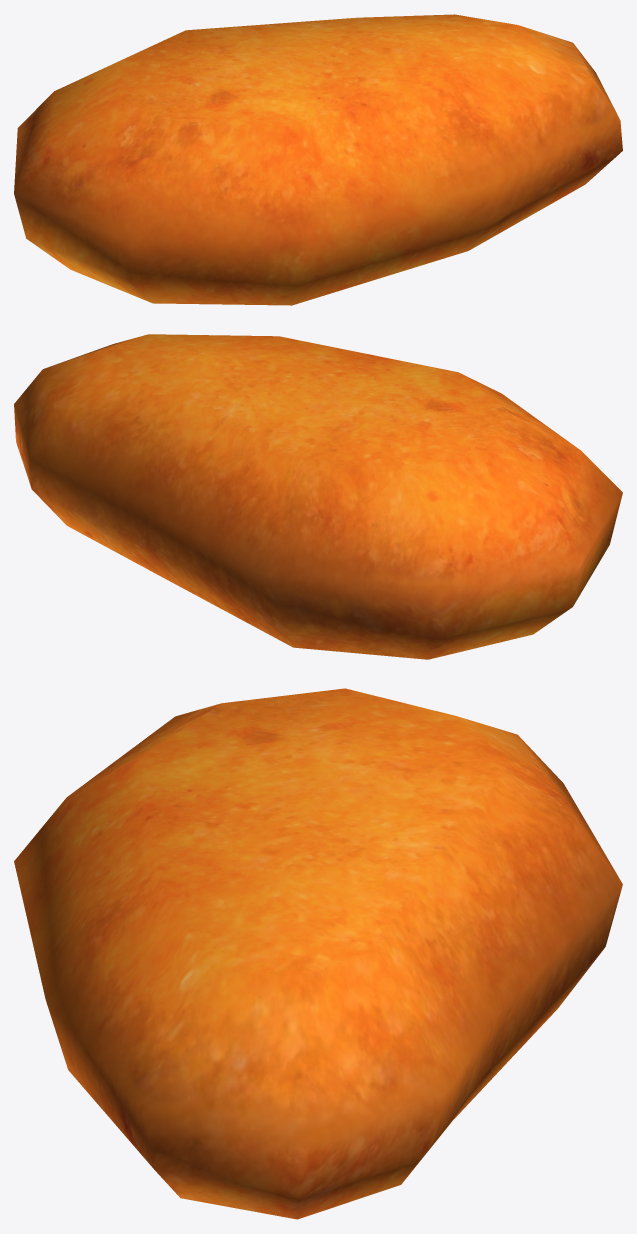
The model's file is FFHP_MOD_Chicken_nugget.fbx.
The picture shows the model from 3 angles, top to bottom: view 1: azimuth 30°, elevation 25°; view 2: azimuth 150°, elevation 25°; view 3: azimuth 270°, elevation 25°; orthographic projection. The views are drawn at different scales.
Parts seen in each view (by area): view 1: FFHP_MOD_Chicken_nugget; view 2: FFHP_MOD_Chicken_nugget; view 3: FFHP_MOD_Chicken_nugget.
Boxes of the visible parts, bbox=[...] form: FFHP_MOD_Chicken_nugget: bbox=[14, 14, 622, 305]; FFHP_MOD_Chicken_nugget: bbox=[14, 334, 622, 659]; FFHP_MOD_Chicken_nugget: bbox=[14, 688, 622, 1219].
Size of the model in its own units: 0.4087 by 0.1279 by 0.2605.
